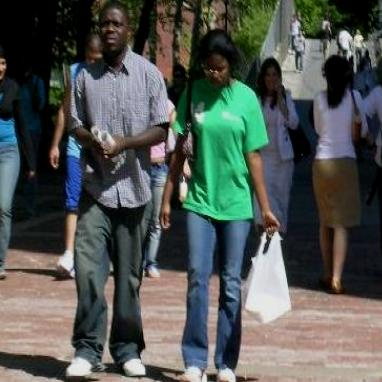ped: (160, 30, 279, 382), (65, 5, 169, 382), (313, 56, 368, 294), (1, 44, 36, 279)
